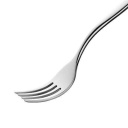fork: (9, 4, 128, 108)
